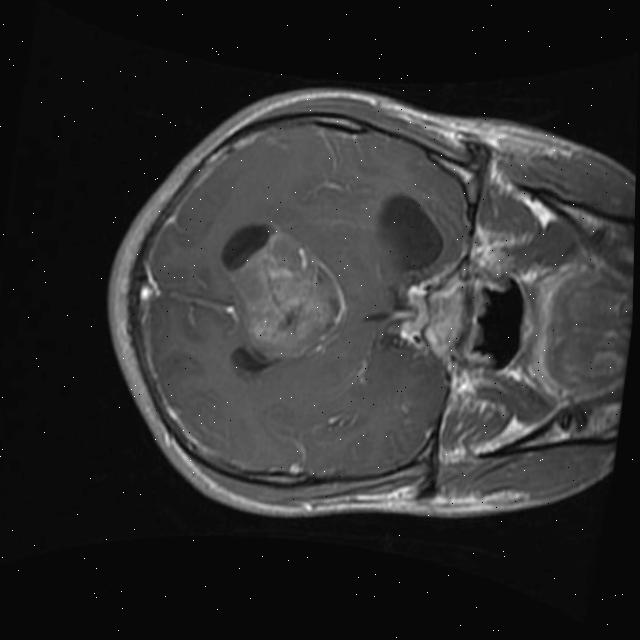Glioma: (203, 214, 357, 369)
Pituitary: (421, 274, 473, 356), (400, 293, 433, 333)
